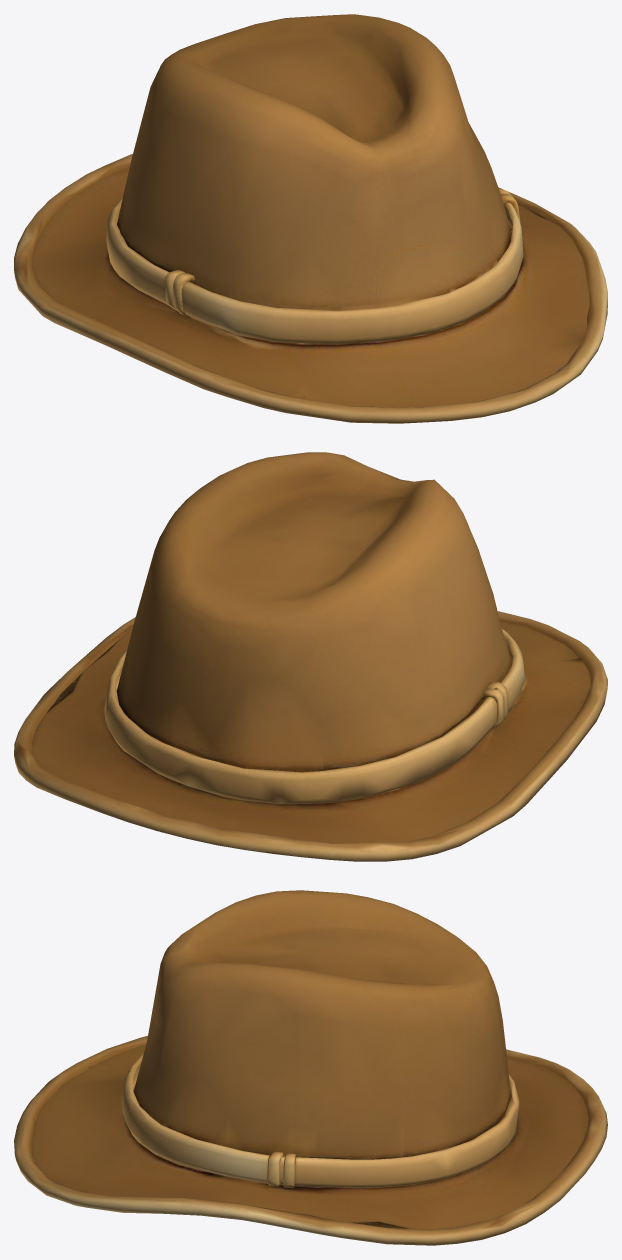
File: tourist_acc_fedora.glb
The picture shows the model from 3 angles, top to bottom: view 1: azimuth 30°, elevation 25°; view 2: azimuth 150°, elevation 25°; view 3: azimuth 270°, elevation 25°; orthographic projection. The views are drawn at different scales.
Parts seen in each view (by area): view 1: tripo_node_d93fa7a3-412f-4b4e-85f9-52cf58e2f62a; view 2: tripo_node_d93fa7a3-412f-4b4e-85f9-52cf58e2f62a; view 3: tripo_node_d93fa7a3-412f-4b4e-85f9-52cf58e2f62a.
Part boxes in pixels (x1=…): tripo_node_d93fa7a3-412f-4b4e-85f9-52cf58e2f62a: x1=14, y1=14, x2=607, y2=423; tripo_node_d93fa7a3-412f-4b4e-85f9-52cf58e2f62a: x1=14, y1=452, x2=607, y2=861; tripo_node_d93fa7a3-412f-4b4e-85f9-52cf58e2f62a: x1=14, y1=890, x2=607, y2=1245.
Size of the model in its own units: 0.8286 by 0.4072 by 0.9995.
1 material, 1 textured.
